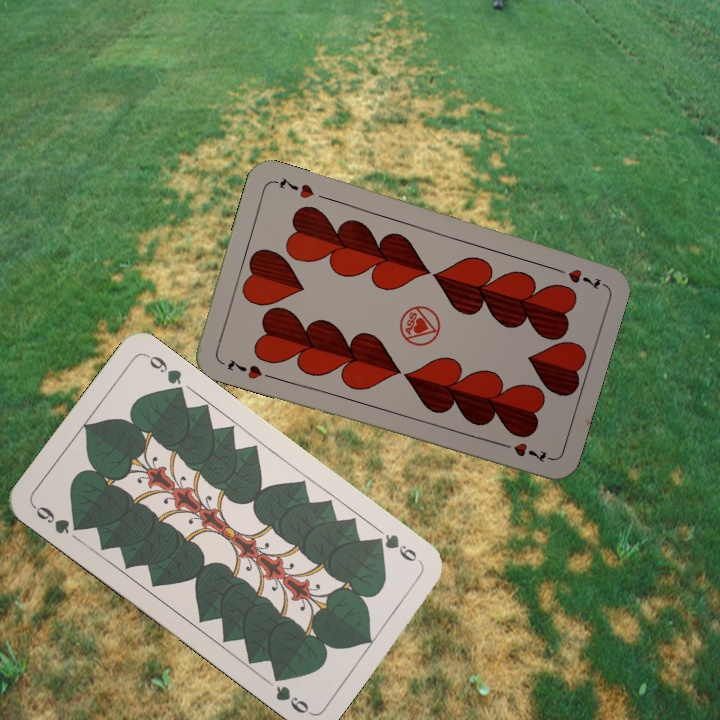G9: (29, 501, 86, 537), (368, 530, 420, 565)
H7: (548, 263, 606, 292), (223, 354, 265, 382)
